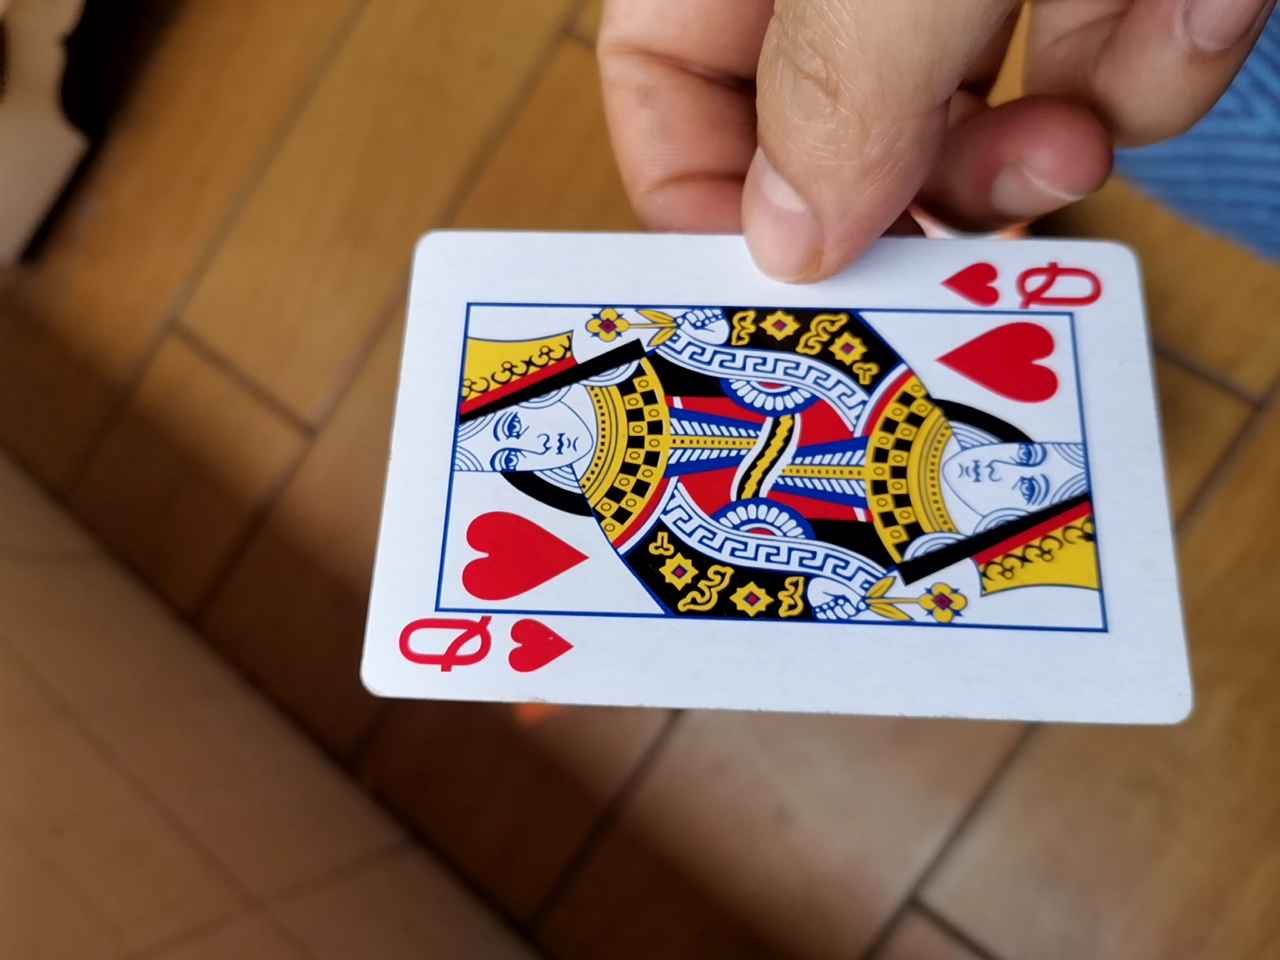hx q: (343, 229, 1171, 731)
